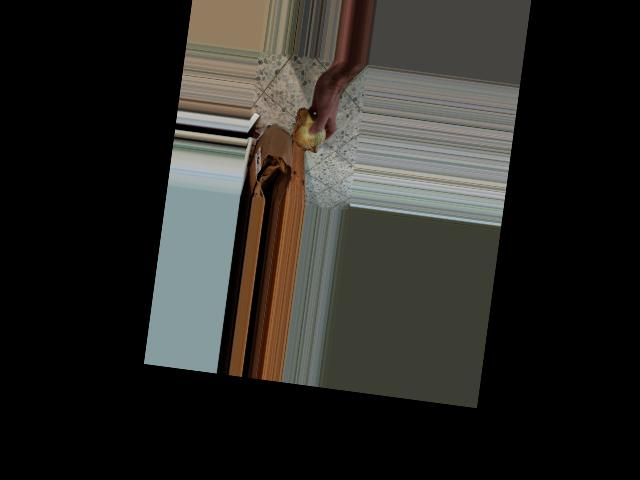onion: (287, 104, 331, 156)
